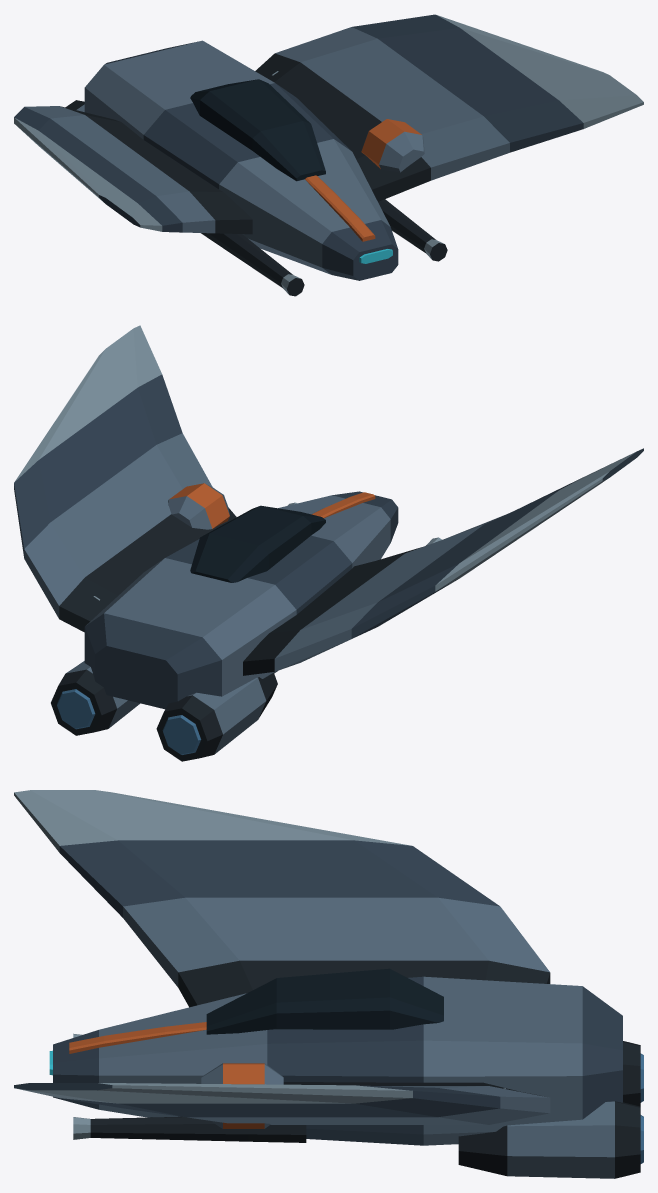
The model's file is Fang.obj.
The picture shows the model from 3 angles, top to bottom: view 1: azimuth 30°, elevation 25°; view 2: azimuth 150°, elevation 25°; view 3: azimuth 270°, elevation 25°; orthographic projection. The views are drawn at different scales.
Visible parts, largest first — view 1: starboard_wing, fuselage, port_wing, canopy, starboard_cannon_housing, port_cannon, starboard_cannon, copper_spine; view 2: starboard_wing, fuselage, port_wing, canopy, port_engine, starboard_engine, starboard_cannon_housing, starboard_exhaust, port_exhaust; view 3: port_wing, fuselage, starboard_wing, canopy, starboard_engine, starboard_cannon, starboard_cannon_housing, copper_spine, port_engine.
Part boxes in pixels (x1,y1,x2,y2): starboard_wing: (255,14,643,201); fuselage: (84,40,398,280); port_wing: (14,106,252,234); canopy: (190,79,325,181); starboard_cannon_housing: (361,119,424,172); port_cannon: (201,233,304,296); starboard_cannon: (378,199,447,261); copper_spine: (305,175,375,241); starboard_wing: (14,325,236,632); fuselage: (84,491,398,709); port_wing: (243,448,643,675); canopy: (190,505,325,582); port_engine: (156,673,277,761); starboard_engine: (51,661,140,735); starboard_cannon_housing: (168,483,229,529); starboard_exhaust: (57,689,95,729); port_exhaust: (162,715,201,754); port_wing: (14,790,550,1007); fuselage: (53,976,622,1145); starboard_wing: (14,1082,550,1124); canopy: (206,968,443,1034); starboard_engine: (458,1101,640,1178); starboard_cannon: (73,1116,306,1142); starboard_cannon_housing: (201,1063,283,1128); copper_spine: (69,1022,206,1053); port_engine: (623,1041,640,1106).
Bounding box in the file's own units: 5.14 × 1.72 × 4.67.
